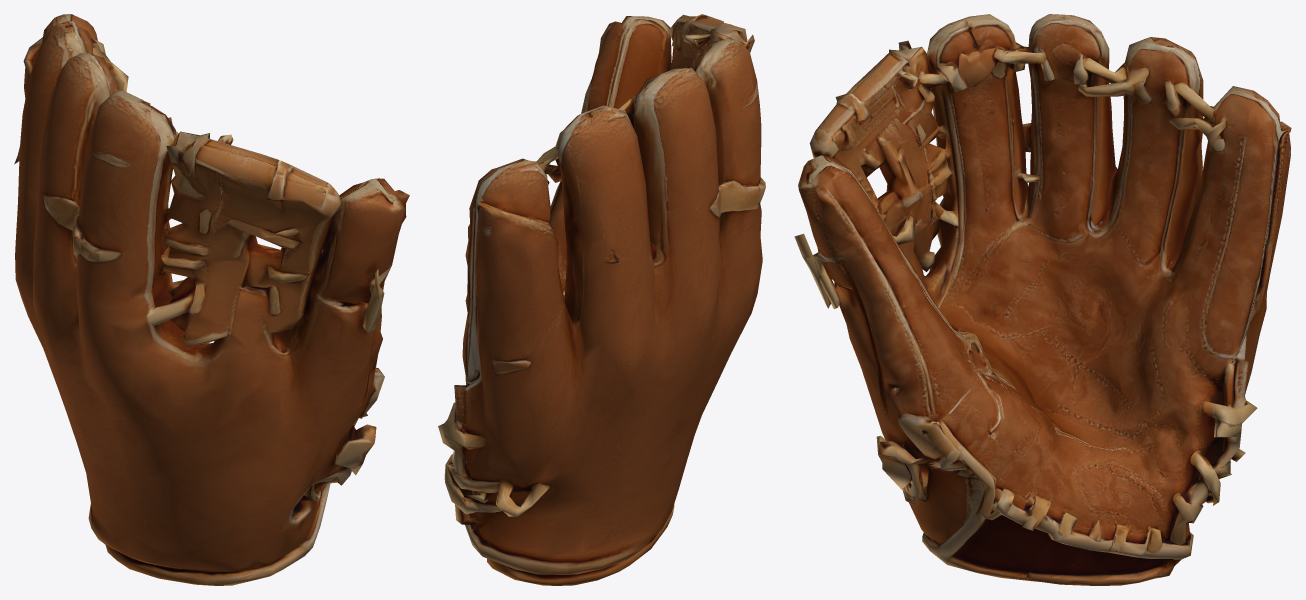
File: pitcher-glove.glb
3 views of the same model, side by side, from view 1: azimuth 30°, elevation 25°; view 2: azimuth 150°, elevation 25°; view 3: azimuth 270°, elevation 25° (orthographic). The views are drawn at different scales.
Parts seen in each view (by area): view 1: tripo_node_202a9730-3b3b-474b-ac68-b6051761fd6c; view 2: tripo_node_202a9730-3b3b-474b-ac68-b6051761fd6c; view 3: tripo_node_202a9730-3b3b-474b-ac68-b6051761fd6c.
Part boxes in pixels (x1,y1,x2,y2): tripo_node_202a9730-3b3b-474b-ac68-b6051761fd6c: [14, 14, 409, 585]; tripo_node_202a9730-3b3b-474b-ac68-b6051761fd6c: [438, 14, 765, 585]; tripo_node_202a9730-3b3b-474b-ac68-b6051761fd6c: [794, 14, 1291, 585].
Bounding box in the file's own units: 0.553 × 1 × 0.8926.
1 material, 1 textured.
